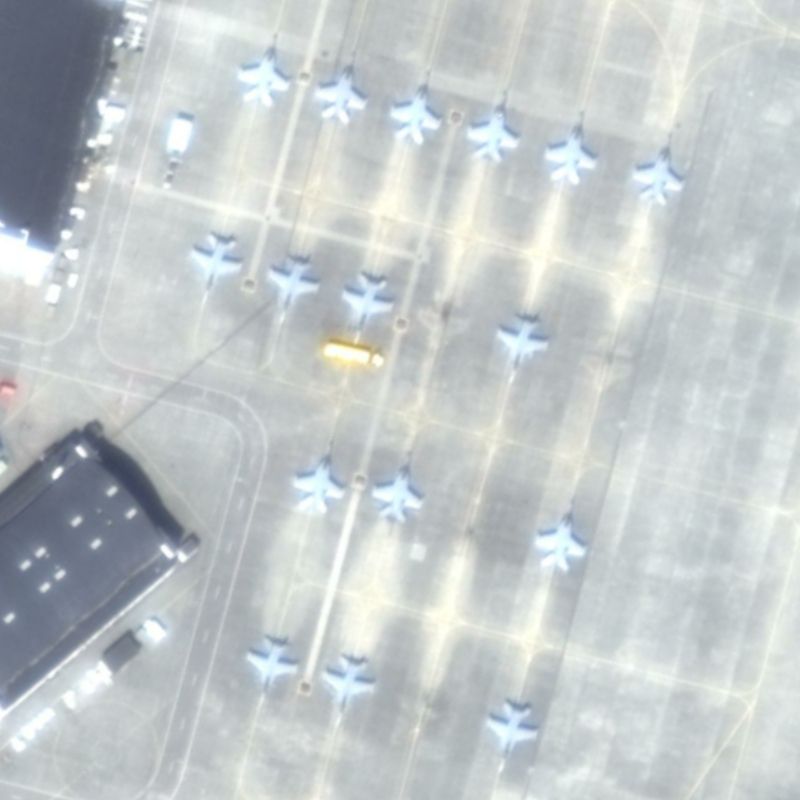A16: (476, 688, 547, 785), (225, 22, 300, 112), (331, 257, 399, 353), (484, 304, 556, 394), (282, 433, 351, 526), (527, 483, 596, 576), (314, 644, 381, 739), (623, 122, 690, 214), (235, 628, 304, 717), (363, 444, 433, 531), (181, 222, 247, 314), (536, 103, 603, 192), (309, 38, 373, 131), (261, 245, 325, 337), (381, 61, 445, 150), (460, 82, 525, 168)
